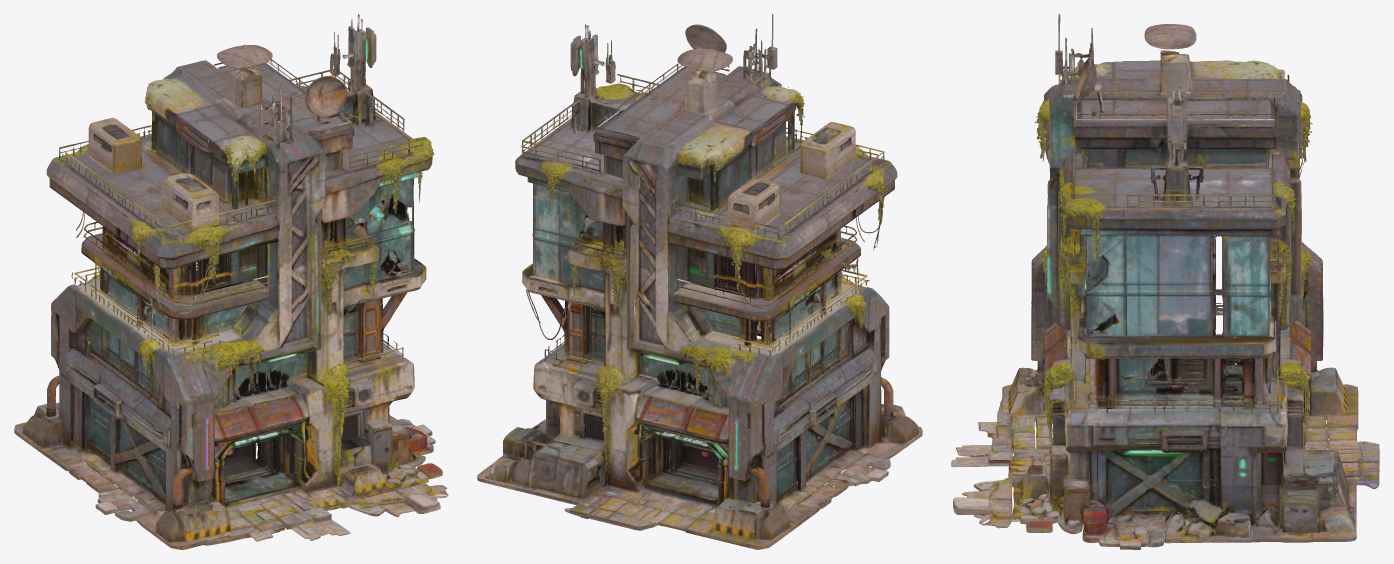
The model's file is cyberpunk_building.glb.
3 renders of one model, left to right at view 1: azimuth 30°, elevation 25°; view 2: azimuth 150°, elevation 25°; view 3: azimuth 270°, elevation 25°, orthographic. The views are drawn at different scales.
Visible parts, largest first — view 1: world; view 2: world; view 3: world.
Part boxes in pixels (box(x1,y1,x2,y2)): world: box(14, 14, 448, 549); world: box(477, 14, 922, 549); world: box(951, 14, 1379, 549).
Bounding box in the file's own units: 1.64 × 1.99 × 1.74.
Materials: 1 (1 with a texture image).
